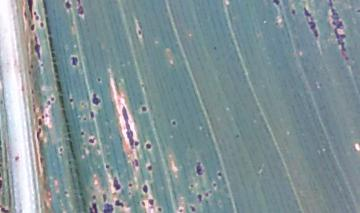tarspot: (322, 1, 351, 59), (302, 4, 321, 44), (120, 102, 135, 150), (193, 158, 205, 180), (32, 35, 43, 58), (90, 91, 103, 108), (85, 200, 102, 213), (111, 176, 123, 194), (75, 1, 86, 18), (70, 52, 79, 70), (25, 1, 35, 17), (194, 190, 204, 205), (101, 202, 114, 213), (86, 108, 97, 121), (140, 181, 150, 195), (12, 154, 23, 165), (143, 140, 153, 152), (113, 199, 126, 208), (134, 28, 145, 38), (140, 103, 149, 115), (289, 5, 297, 18), (169, 119, 179, 129), (66, 95, 76, 105), (27, 22, 37, 32), (95, 75, 104, 86), (153, 204, 164, 213), (79, 127, 86, 141), (101, 190, 108, 204), (215, 168, 223, 180), (144, 163, 154, 172), (269, 1, 284, 7), (36, 118, 44, 129), (62, 1, 71, 10), (57, 146, 66, 155), (126, 181, 135, 190), (89, 137, 97, 147), (104, 161, 110, 173), (89, 192, 98, 200), (190, 204, 198, 213), (148, 197, 155, 207), (67, 158, 74, 168), (177, 205, 185, 213), (44, 99, 52, 106)
